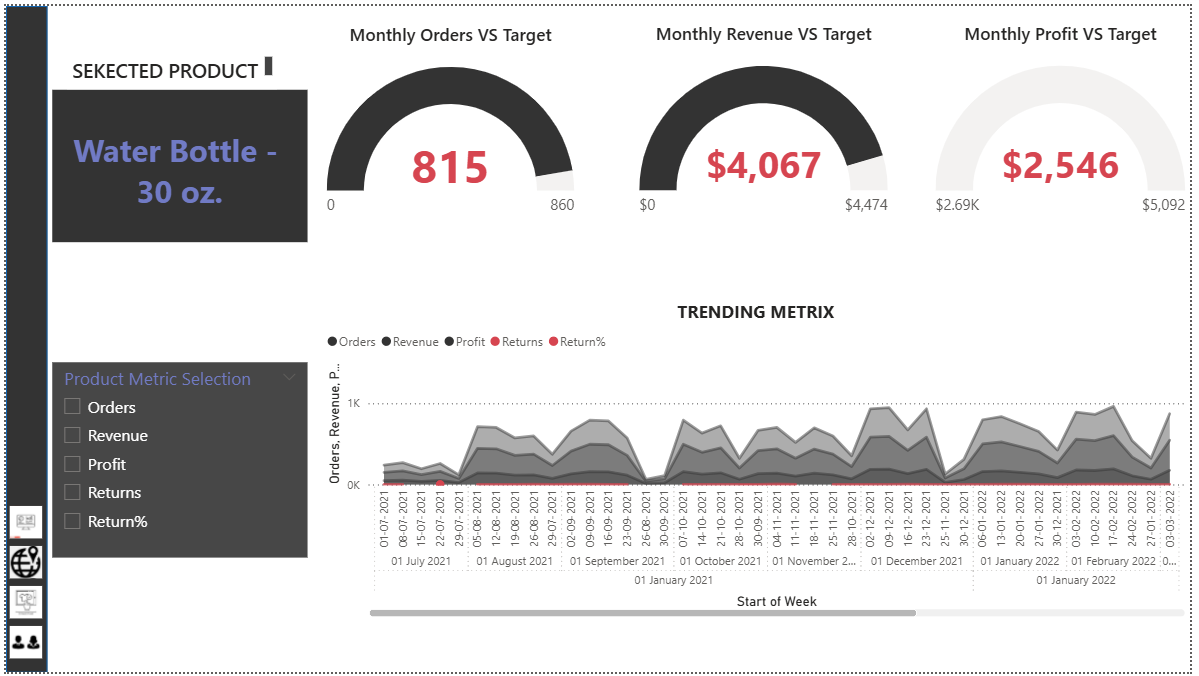

The page's visual inventory and layout, read from the dashboard file:
{"tool":"powerbi","page":{"name":"Product Details","canvas":[1280,720],"ordinal":2},"visuals":[{"type":"gauge","title":"Monthly Orders VS Target","fields":{"MaxValue":["Table Measures.Order Target"],"Y":["Table Measures.Total Orders"]},"box":[342.5,17.5,277.5,237.5],"z":0},{"type":"actionButton","box":[0,536.2,44.8,43.1],"z":0,"group":"g1"},{"type":"gauge","title":"Monthly Revenue VS Target","fields":{"MaxValue":["Table Measures.Target Revenue"],"Y":["Table Measures.Total Revenue"]},"box":[680,16.2,278.8,238.8],"z":1000},{"type":"actionButton","box":[0,579.3,44.8,43.1],"z":1000,"group":"g1"},{"type":"gauge","title":"Monthly Profit VS Target","fields":{"MinValue":["Table Measures.Profit Target"],"Y":["Table Measures.Total Profit"]},"box":[1000,16.2,280,238.8],"z":2000},{"type":"actionButton","box":[0,622.4,44.8,43.1],"z":2000,"group":"g1"},{"type":"actionButton","box":[0,665.5,44.8,43.1],"z":3000,"group":"g1"},{"type":"areaChart","title":"TRENDING METRIX","fields":{"Category":["Calendar Lookup.Start of Year","Calendar Lookup.Start of Month","Calendar Lookup.Start of Week"],"Y":["Table Measures.Total Orders","Table Measures.Total Revenue","Table Measures.Total Profit","Table Measures.Total Returns","Table Measures.Returns Rate"]},"box":[342.5,317.5,937.5,347.5],"z":4000},{"type":"actionButton","box":[0,0,44.8,39.7],"z":5000},{"type":"card","fields":{"Values":["Min(Product Lookup.ProductName)"]},"box":[50,90,276.2,165],"z":6000},{"type":"textbox","box":[66.2,50,226.2,40],"z":7000},{"type":"shape","title":"Left nav bar","box":[0,0,44.8,720.7],"z":8000},{"type":"group","id":"g1","title":"Nav Buttons","box":[0,536.2,44.8,172.4],"z":9000},{"type":"slicer","fields":{"Values":["Product Metric Selection.Product Metric Selection"]},"box":[50,385,276.2,211.2],"z":9001}]}

Visuals, with their boxes in screenshot pixels (x1, y1, x2, y2), scaled from the page's 1280x720 canvas onto the 1199x676 screenshot:
"Monthly Orders VS Target" gauge: crop(321, 16, 581, 239)
actionButton: crop(0, 503, 42, 544)
"Monthly Revenue VS Target" gauge: crop(637, 15, 898, 239)
actionButton: crop(0, 544, 42, 584)
"Monthly Profit VS Target" gauge: crop(937, 15, 1198, 239)
actionButton: crop(0, 584, 42, 625)
actionButton: crop(0, 625, 42, 665)
"TRENDING METRIX" areaChart: crop(321, 298, 1198, 624)
actionButton: crop(0, 0, 42, 37)
card - Min(Product Lookup.ProductName): crop(47, 84, 306, 239)
textbox: crop(62, 47, 274, 84)
"Left nav bar" shape: crop(0, 0, 42, 675)
"Nav Buttons" group: crop(0, 503, 42, 665)
slicer - Product Metric Selection.Product Metric Selection: crop(47, 361, 306, 560)
